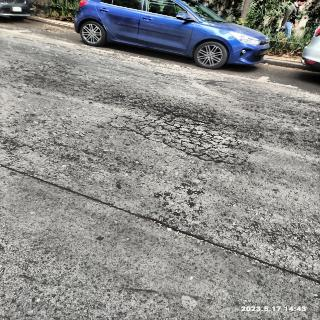alligator-crack: (97, 81, 268, 188)
